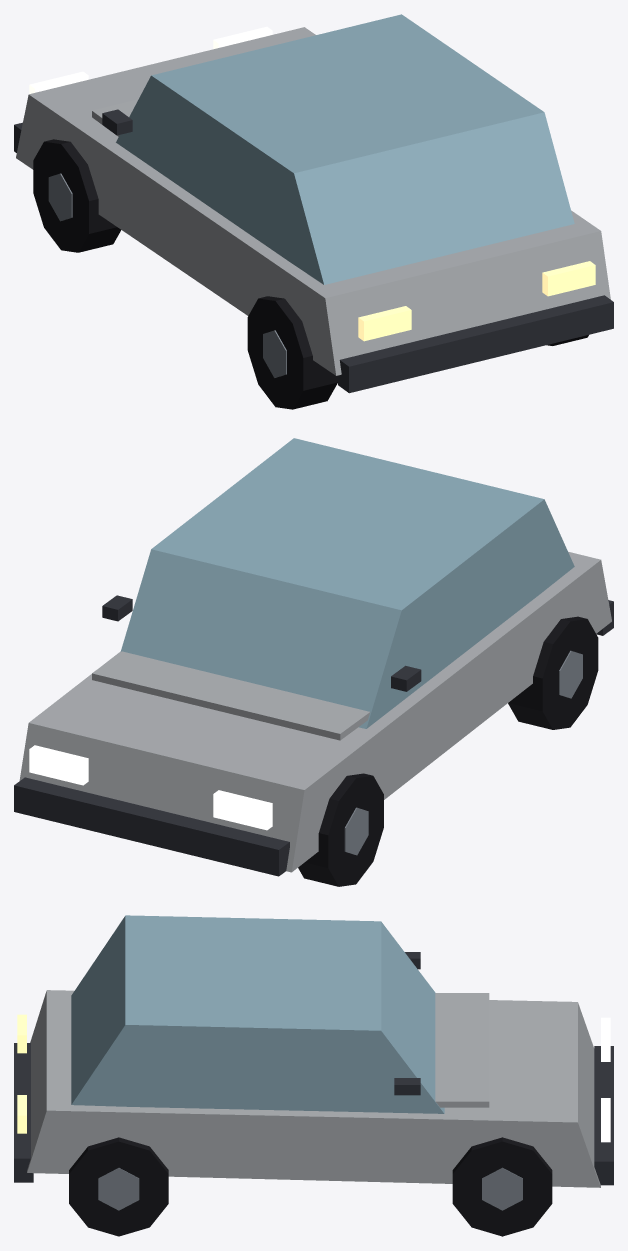
Rendered from veh_car_hatch.glb.
3 renders of one model, top to bottom at view 1: azimuth 30°, elevation 25°; view 2: azimuth 150°, elevation 25°; view 3: azimuth 270°, elevation 25°, orthographic. The views are drawn at different scales.
Visible parts, largest first — view 1: veh_car_hatch_body, wheel_rl_mesh, wheel_fl_mesh, lights; view 2: veh_car_hatch_body, wheel_rl_mesh, wheel_fl_mesh, lights; view 3: veh_car_hatch_body, wheel_fr_mesh, wheel_rr_mesh, lights.
Part boxes in pixels (bbox=[...]): veh_car_hatch_body: bbox=[14, 14, 613, 393]; wheel_rl_mesh: bbox=[247, 296, 337, 409]; wheel_fl_mesh: bbox=[33, 139, 120, 252]; lights: bbox=[29, 26, 595, 341]; veh_car_hatch_body: bbox=[14, 438, 613, 876]; wheel_rl_mesh: bbox=[508, 616, 598, 729]; wheel_fl_mesh: bbox=[298, 773, 383, 886]; lights: bbox=[29, 745, 272, 830]; veh_car_hatch_body: bbox=[14, 915, 613, 1187]; wheel_fr_mesh: bbox=[452, 1137, 552, 1236]; wheel_rr_mesh: bbox=[69, 1137, 168, 1236]; lights: bbox=[17, 1014, 610, 1142].
Bounding box in the file's own units: 1.92 × 1.36 × 3.66.
